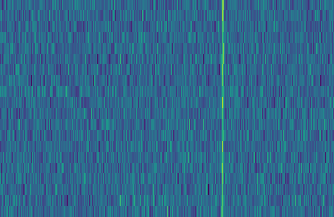signal: (218, 0, 228, 217)
